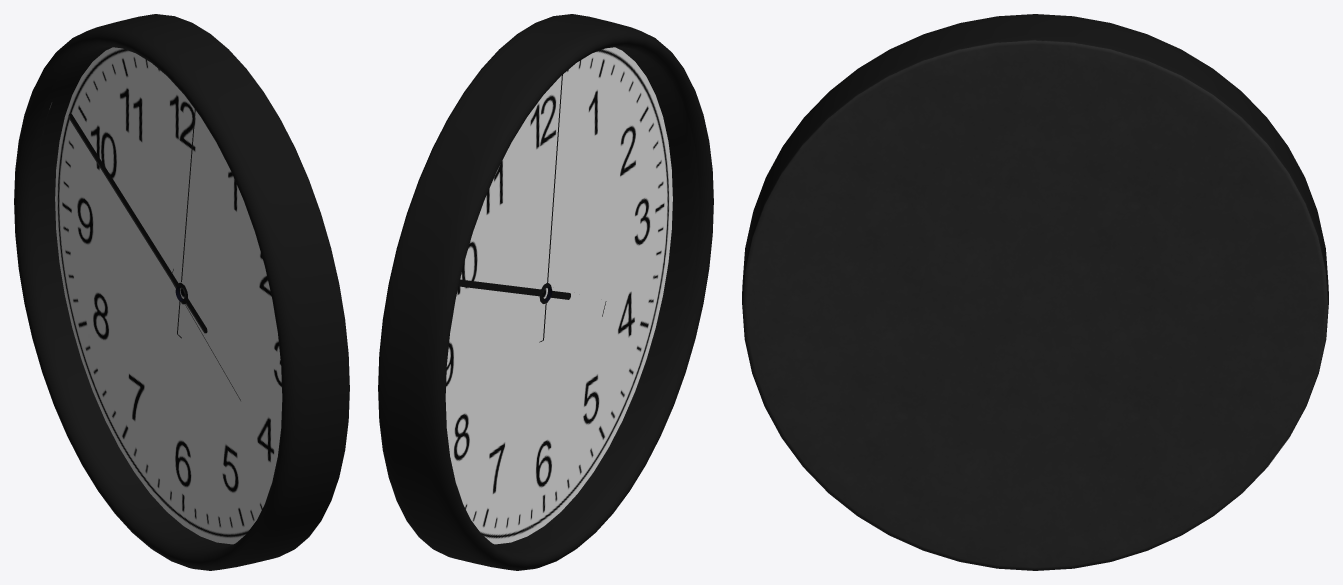
Rendered from Clock.glb.
3 views of the same model, side by side, from view 1: azimuth 30°, elevation 25°; view 2: azimuth 150°, elevation 25°; view 3: azimuth 270°, elevation 25° (orthographic). The views are drawn at different scales.
Visible parts, largest first — view 1: Circle.007, Circle.002, Plane.006; view 2: Circle.007, Circle.002, Plane.006; view 3: Circle.002.
Boxes of the visible parts, x1,y1,x2,y2 form: Circle.007: (55,47,282,544); Circle.002: (14,14,349,570); Plane.006: (68,113,207,333); Circle.007: (445,47,672,544); Circle.002: (378,14,713,570); Plane.006: (458,279,570,303); Circle.002: (742,14,1328,570).
Size of the model in its own units: 0.0484 by 0.3244 by 0.3244.
1 material, 1 textured.
